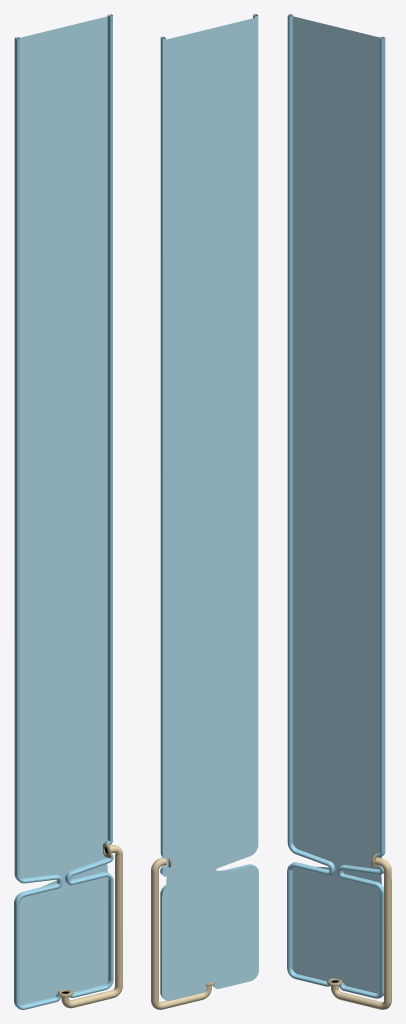
The picture shows the model from 3 angles, left to right: view 1: azimuth 30°, elevation 25°; view 2: azimuth 210°, elevation 25°; view 3: azimuth 330°, elevation 25°; orthographic projection.
Parts seen in each view (by area): view 1: mainPlatform.003, pipe.004; view 2: mainPlatform.003, pipe.004; view 3: mainPlatform.003, pipe.004.
Part boxes in pixels (box(x1,y1,x2,y2)): mainPlatform.003: box(14, 14, 113, 1009); pipe.004: box(57, 842, 122, 1008); mainPlatform.003: box(160, 14, 258, 1000); pipe.004: box(151, 857, 215, 1009); mainPlatform.003: box(287, 14, 385, 998); pipe.004: box(327, 853, 391, 1009).
Bounding box in the file's own units: 6.16 × 54.54 × 0.7975.
